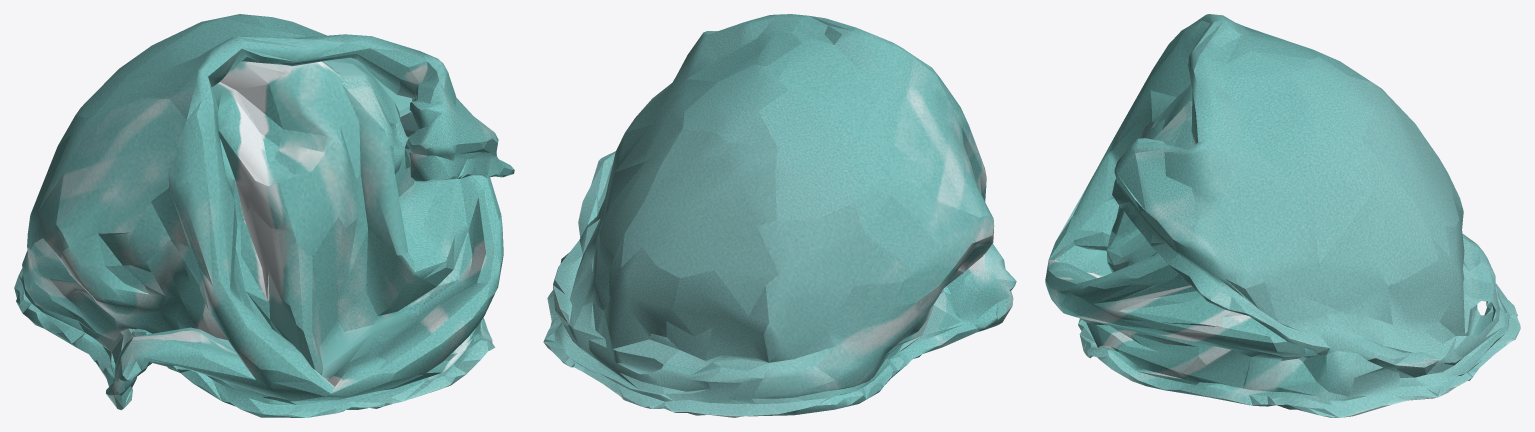
File: asciugamano.glb
3 renders of one model, left to right at view 1: azimuth 30°, elevation 25°; view 2: azimuth 150°, elevation 25°; view 3: azimuth 270°, elevation 25°, orthographic. The views are drawn at different scales.
Size of the model in its own units: 1.8 by 1.24 by 1.9.
1 material, 1 textured.
